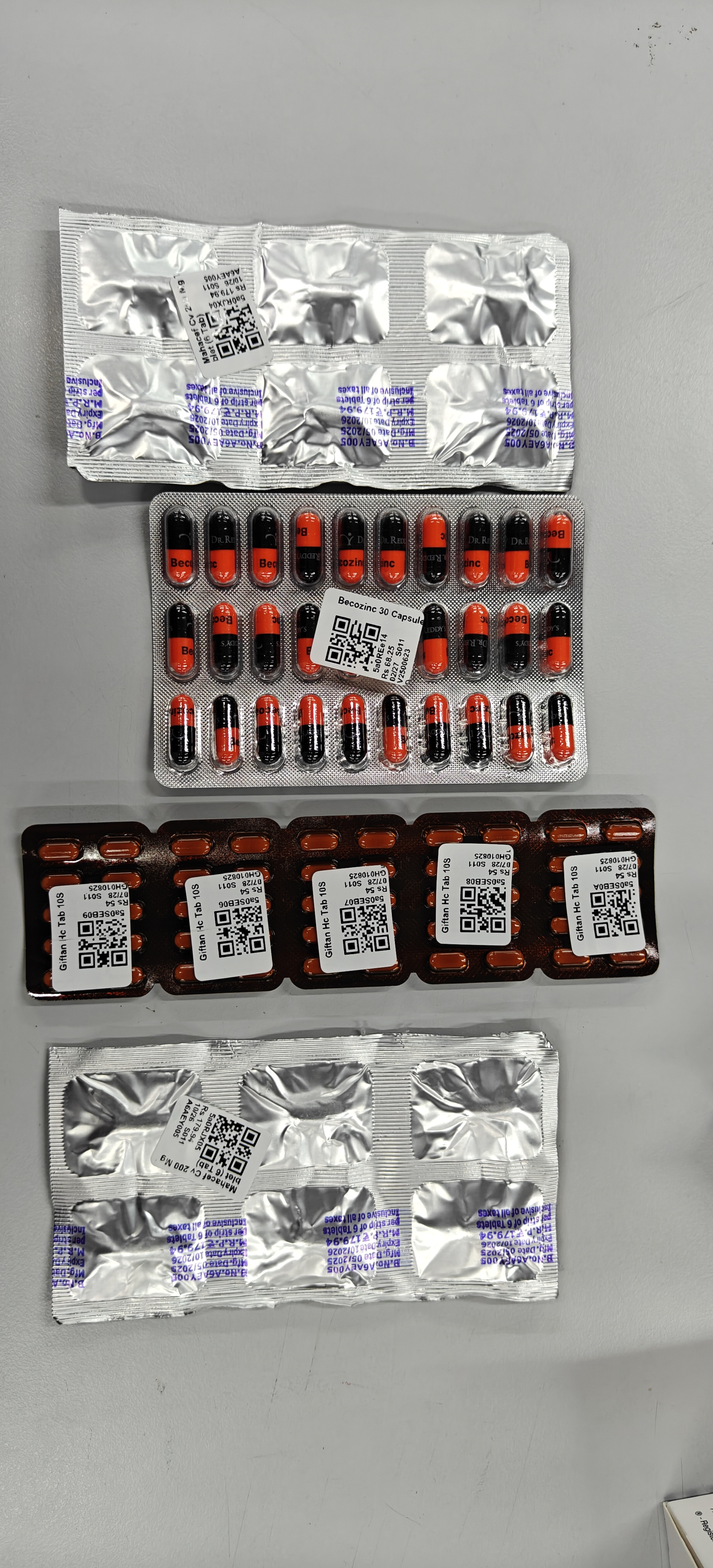qr_code: (199, 1114, 261, 1176), (324, 615, 381, 672), (213, 905, 266, 958), (339, 902, 390, 954), (77, 918, 128, 969), (589, 889, 640, 938), (460, 887, 506, 933)
